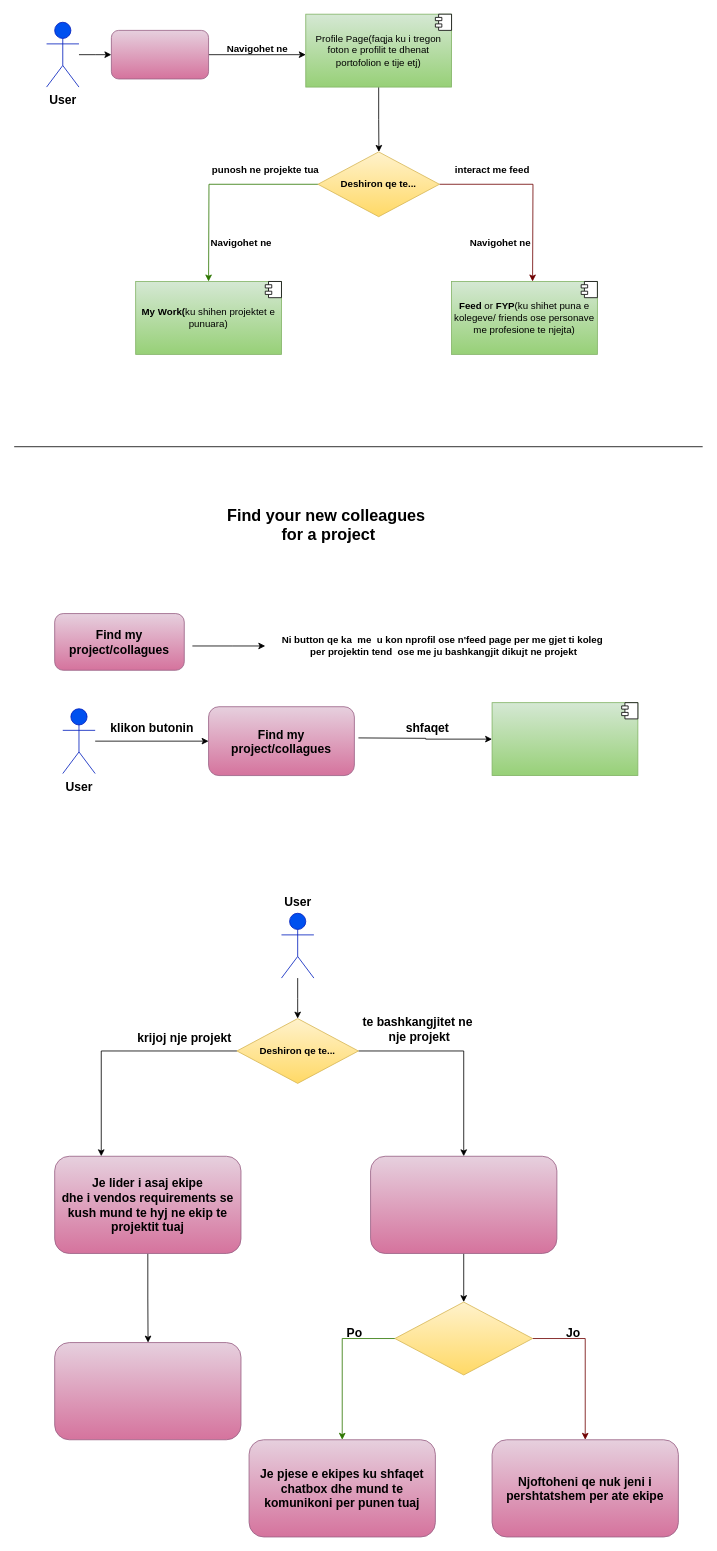
Some shapes in this 717 by 1551 pixel diagram are drawn without their labels. The centre of each missing label's shape, as x and y in pixels:
"Duhet qe ti pershtatesh requirements qe lideri i ekipes i ka vendos" goes at (x=463, y=1204).
"Faqja ku permes filtrimit (requirements) te shfaqen projektet e ngjajshme" goes at (x=564, y=739).
"i permbush kerkesat?" goes at (x=463, y=1338).
"Qaset ne faqe permes log-in" goes at (x=160, y=54).
"Shfaqet chatbox i ekipes ku mund te diskutojne antaret e grupit" goes at (x=147, y=1391).
